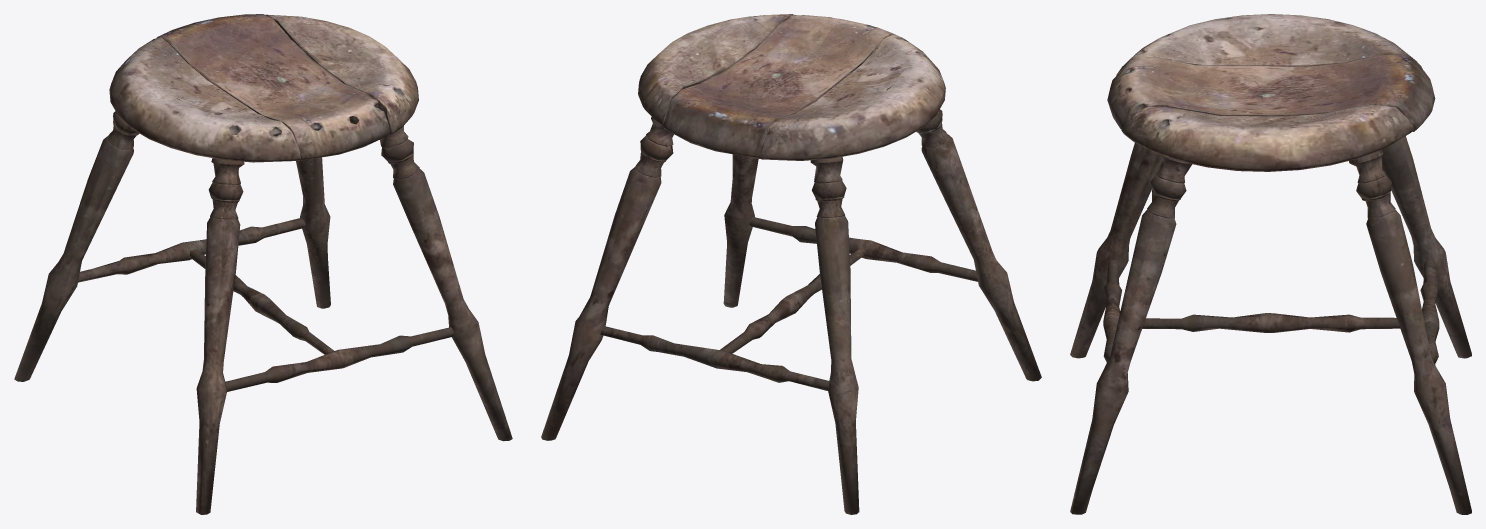
File: wooden_stool_01.glb
3 renders of one model, left to right at view 1: azimuth 30°, elevation 25°; view 2: azimuth 150°, elevation 25°; view 3: azimuth 270°, elevation 25°, orthographic. The views are drawn at different scales.
Parts seen in each view (by area): view 1: wooden_stool_01; view 2: wooden_stool_01; view 3: wooden_stool_01.
Boxes of the visible parts, bbox=[...] form: wooden_stool_01: bbox=[14, 14, 512, 514]; wooden_stool_01: bbox=[541, 14, 1041, 514]; wooden_stool_01: bbox=[1070, 14, 1471, 514].
Size of the model in its own units: 0.4237 by 0.4373 by 0.4411.
Materials: 1 (1 with a texture image).
